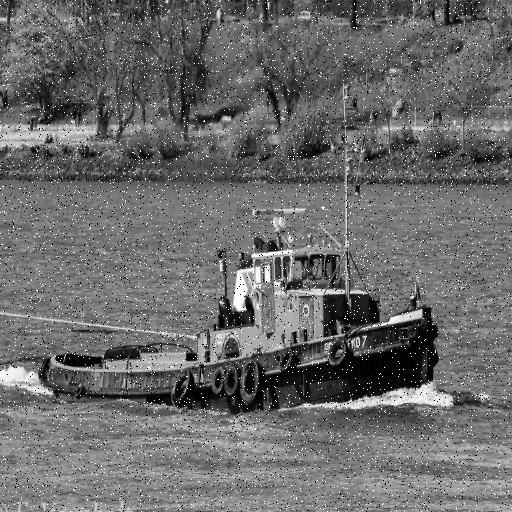tugboat: (34, 203, 444, 424)
